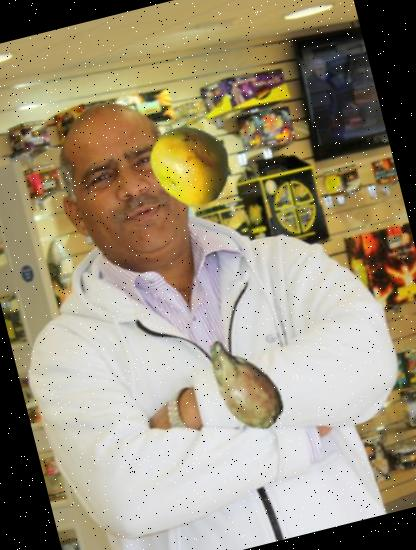Cactus: (180, 321, 306, 447)
Pomelo: (141, 114, 244, 216)
